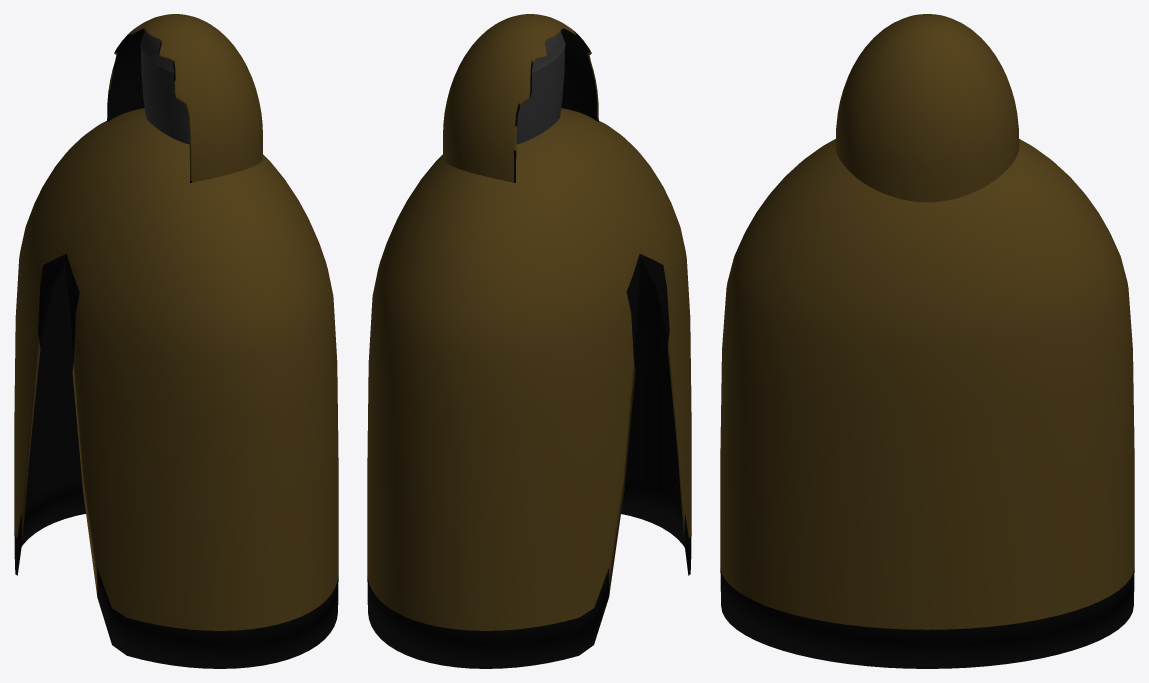
Rendered from Defensive_build.fbx.
3 views of the same model, side by side, from view 1: azimuth 30°, elevation 25°; view 2: azimuth 150°, elevation 25°; view 3: azimuth 270°, elevation 25° (orthographic). The views are drawn at different scales.
Visible parts, largest first — view 1: Sphere, Sphere.001, Sphere.002; view 2: Sphere, Sphere.001, Sphere.002; view 3: Sphere, Sphere.001.
Boxes of the visible parts, x1=… form: Sphere: x1=14, y1=108, x2=338, y2=668; Sphere.001: x1=107, y1=14, x2=262, y2=182; Sphere.002: x1=140, y1=32, x2=189, y2=144; Sphere: x1=367, y1=108, x2=691, y2=668; Sphere.001: x1=443, y1=14, x2=598, y2=182; Sphere.002: x1=516, y1=32, x2=565, y2=144; Sphere: x1=720, y1=139, x2=1134, y2=668; Sphere.001: x1=835, y1=14, x2=1019, y2=202.
Bounding box in the file's own units: 119 × 261 × 167.
